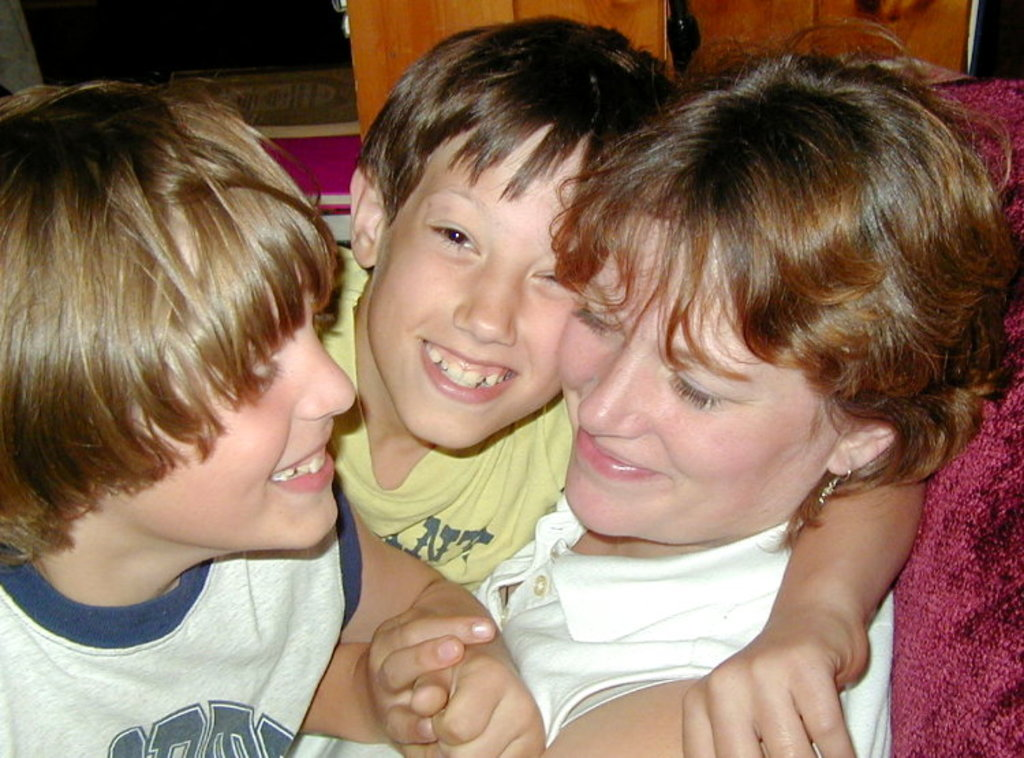Person: (548, 18, 1024, 758)
